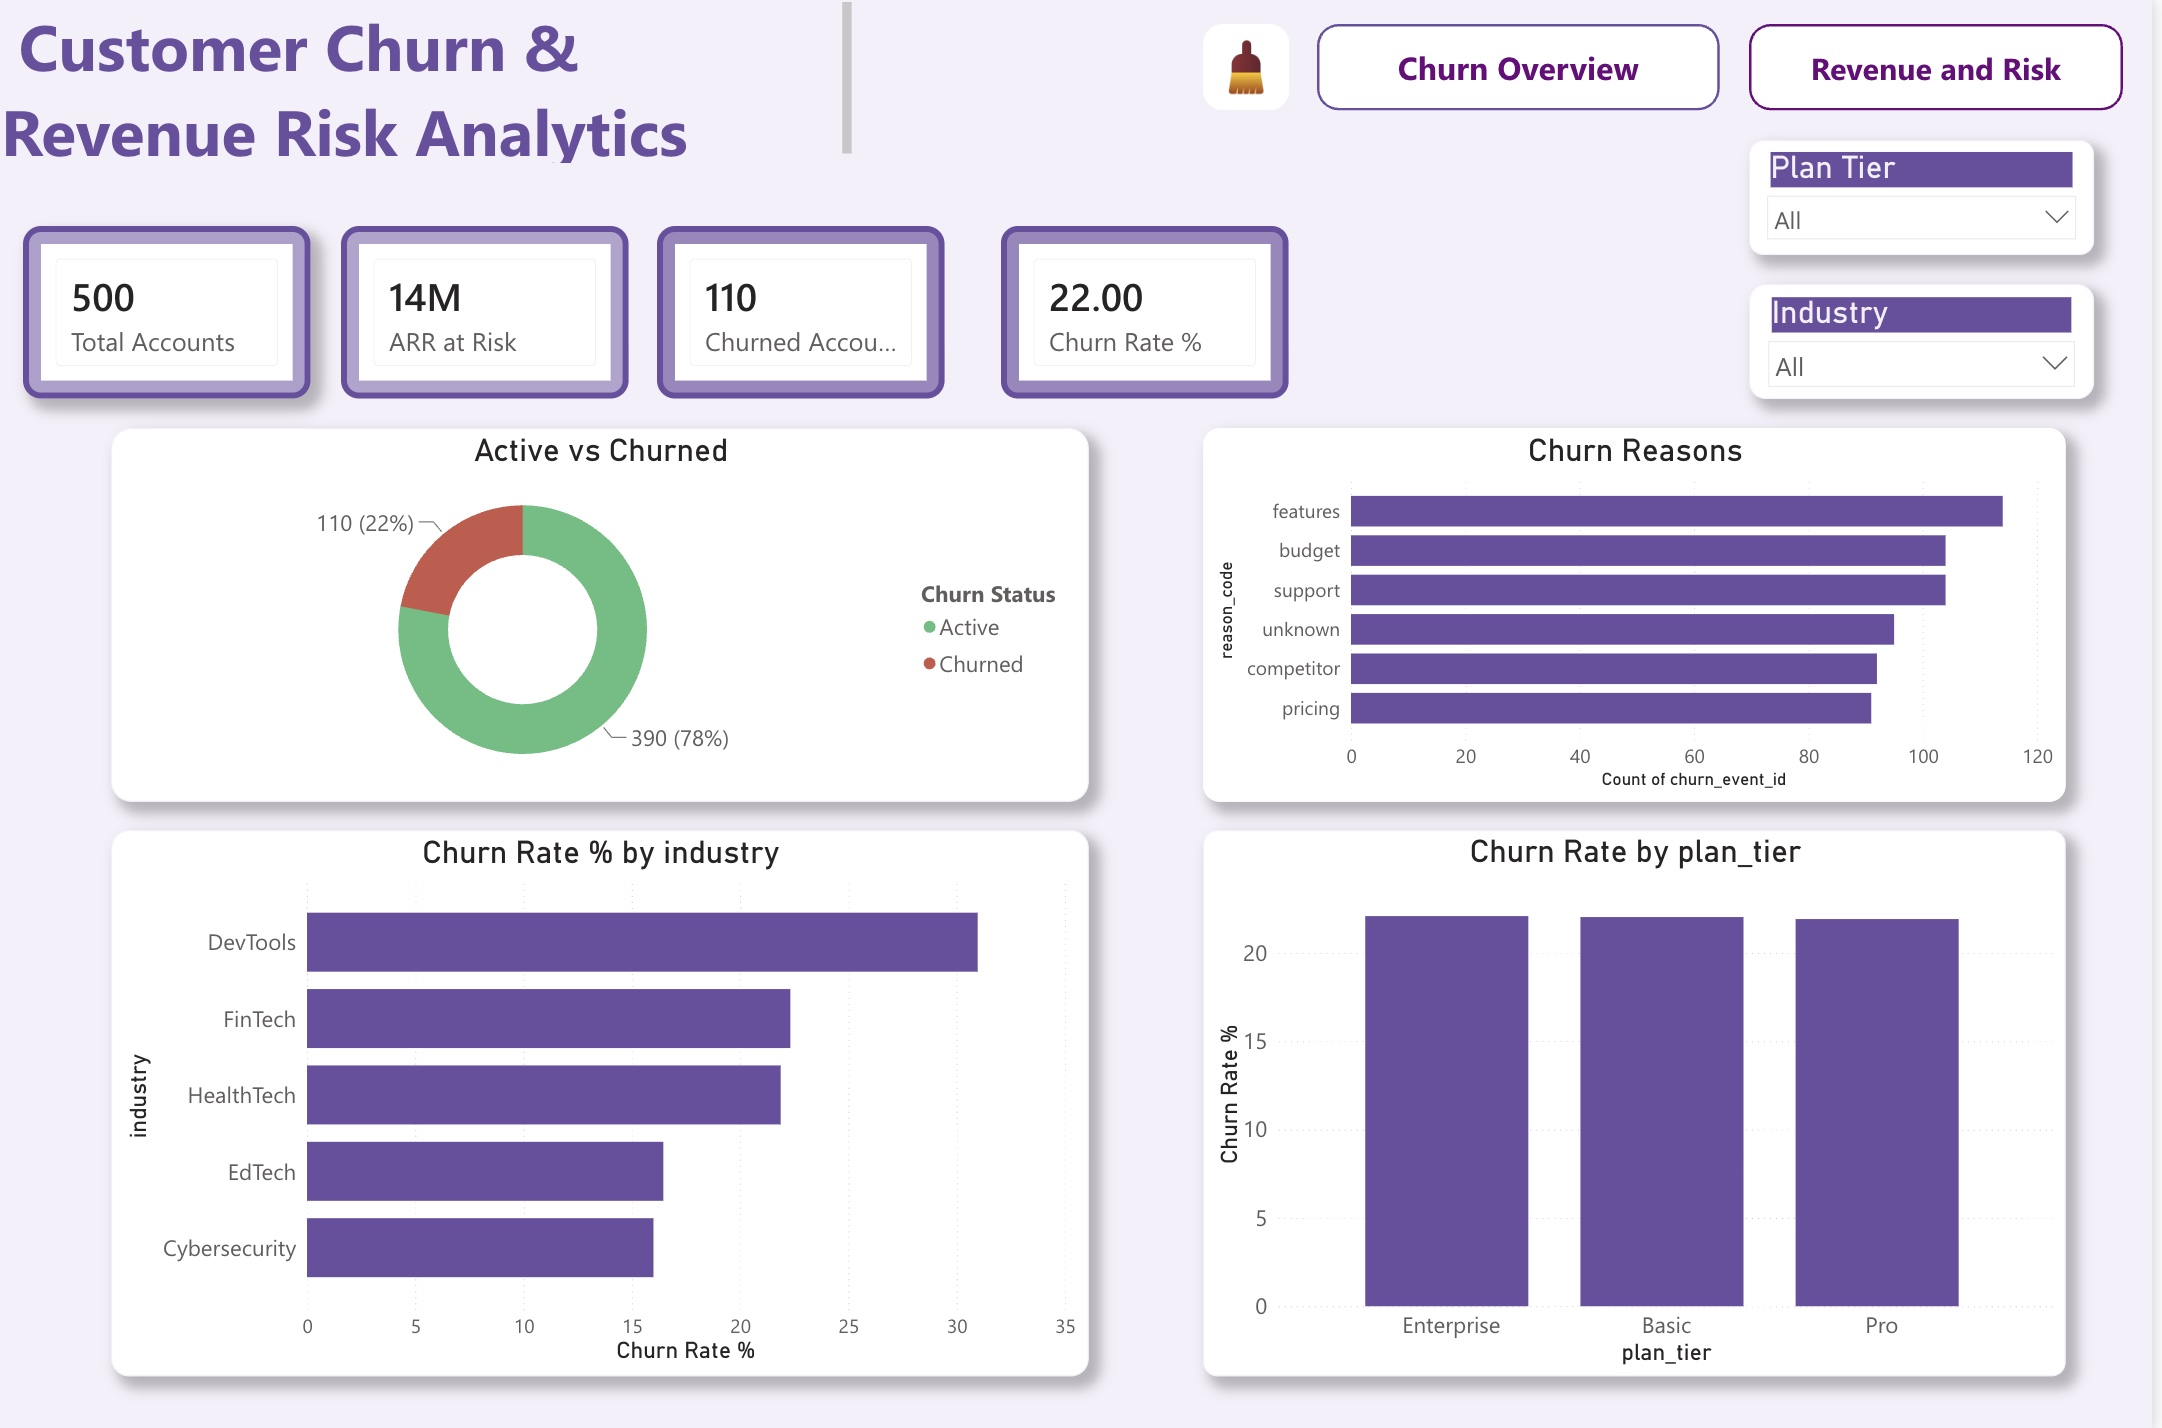

The dashboard page shown, as its layout file describes it:
{"tool":"powerbi","page":{"name":"Churn Overview","canvas":[1800,1200],"ordinal":0},"visuals":[{"type":"cardVisual","fields":{"Data":["_Measures.Total Accounts"]},"box":[24,192,240,144],"z":0},{"type":"cardVisual","fields":{"Data":["_Measures.Churned Accounts"]},"box":[552,192,240,144],"z":1000},{"type":"cardVisual","fields":{"Data":["_Measures.Churn Rate %"]},"box":[840,192,240,144],"z":2000},{"type":"cardVisual","fields":{"Data":["_Measures.ARR at Risk"]},"box":[288,192,240,144],"z":3000},{"type":"donutChart","title":"Active vs Churned","fields":{"Category":["accounts_clean.Churn Status"],"Y":["_Measures.Total Accounts"]},"box":[96,360,816,312],"z":4000},{"type":"clusteredBarChart","fields":{"Category":["accounts_clean.industry"],"Y":["_Measures.Churn Rate %"]},"box":[96,696,816,456],"z":5000},{"type":"clusteredBarChart","title":"Churn Reasons","fields":{"Category":["churn_events_clean.reason_code"],"Y":["CountNonNull(churn_events_clean.churn_event_id)"]},"box":[1008,360,720,312],"z":6000},{"type":"clusteredColumnChart","title":"Churn Rate by plan_tier","fields":{"Category":["accounts_clean.plan_tier"],"Y":["_Measures.Churn Rate %"]},"box":[1008,696,720,456],"z":7000},{"type":"pageNavigator","box":[1464,24,312,72],"z":8000},{"type":"slicer","fields":{"Values":["accounts_clean.industry"]},"box":[1464,240,288,96],"z":9000},{"type":"slicer","fields":{"Values":["risk_scored_accounts.plan_tier"]},"box":[1464,120,288,96],"z":10000},{"type":"textbox","box":[0,0,720,144],"z":11000},{"type":"actionButton","title":"Revenue","box":[1104,24,336,72],"z":12000},{"type":"actionButton","box":[1008,24,72,72],"z":13000}]}

Visuals, with their boxes in screenshot pixels (x1, y1, x2, y2), scaled from the page's 1800x1200 canvas onto the 2162x1428 screenshot:
cardVisual - _Measures.Total Accounts: [29,228,317,400]
cardVisual - _Measures.Churned Accounts: [663,228,951,400]
cardVisual - _Measures.Churn Rate %: [1009,228,1297,400]
cardVisual - _Measures.ARR at Risk: [346,228,634,400]
"Active vs Churned" donutChart: [115,428,1095,800]
clusteredBarChart - accounts_clean.industry x _Measures.Churn Rate %: [115,828,1095,1371]
"Churn Reasons" clusteredBarChart: [1211,428,2076,800]
"Churn Rate by plan_tier" clusteredColumnChart: [1211,828,2076,1371]
pageNavigator: [1758,29,2133,114]
slicer - accounts_clean.industry: [1758,286,2104,400]
slicer - risk_scored_accounts.plan_tier: [1758,143,2104,257]
textbox: [0,0,865,171]
"Revenue" actionButton: [1326,29,1730,114]
actionButton: [1211,29,1297,114]
